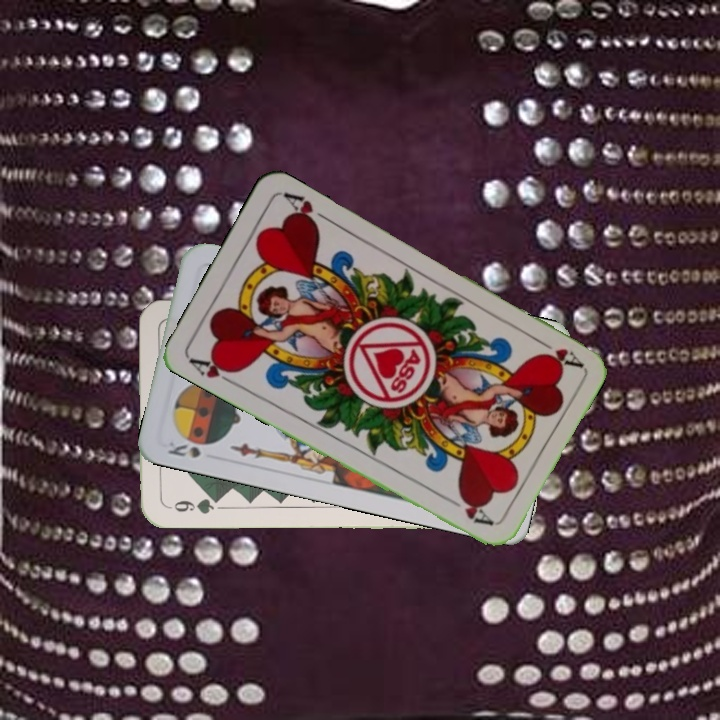G9: (163, 493, 222, 517)
HA: (185, 353, 242, 389), (530, 333, 585, 370)
SK: (164, 433, 218, 461)
